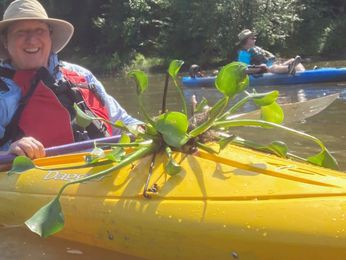water_hyacinth: (14, 61, 340, 231)
